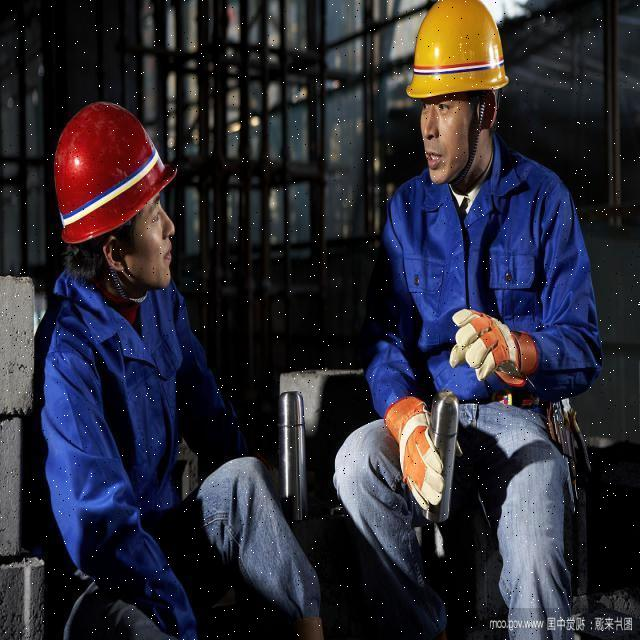Hard_hat: (43, 97, 171, 249), (404, 0, 506, 106)
Person: (320, 43, 605, 639), (32, 95, 250, 630)
